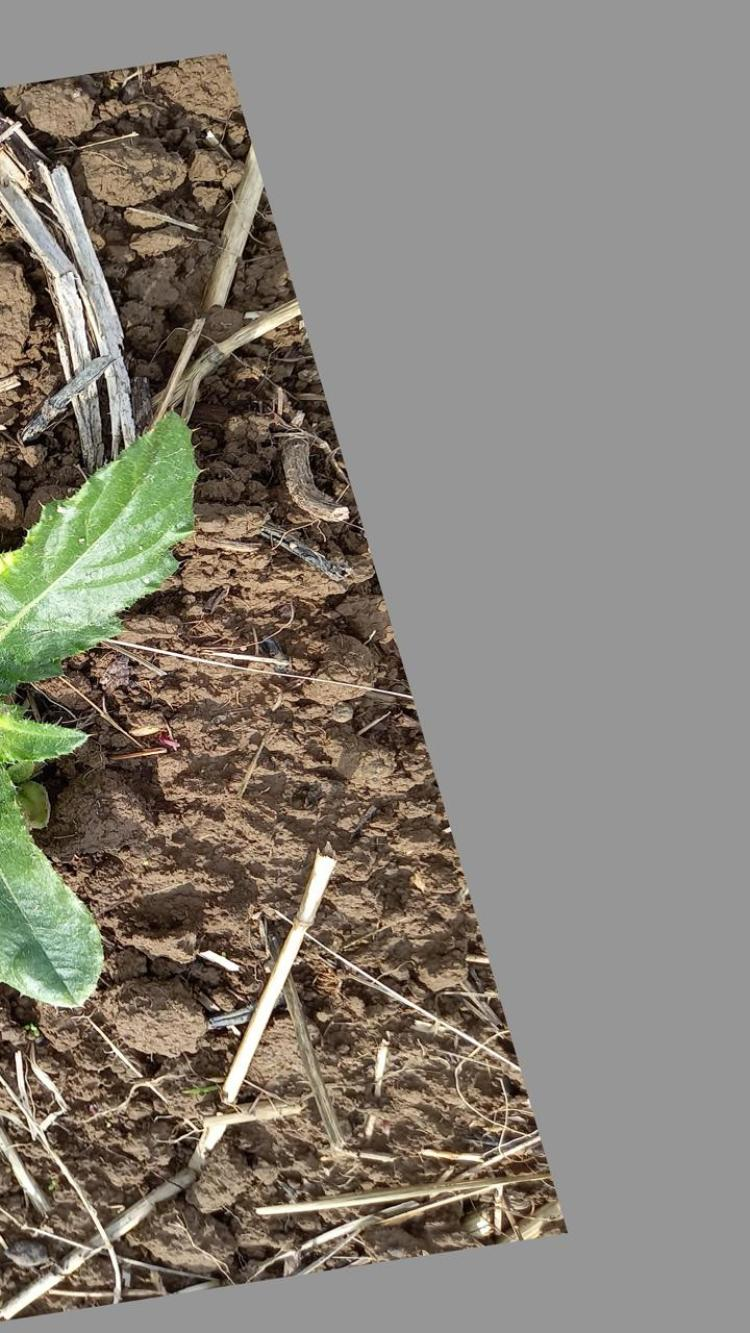bodyak: (0, 416, 204, 1022)
